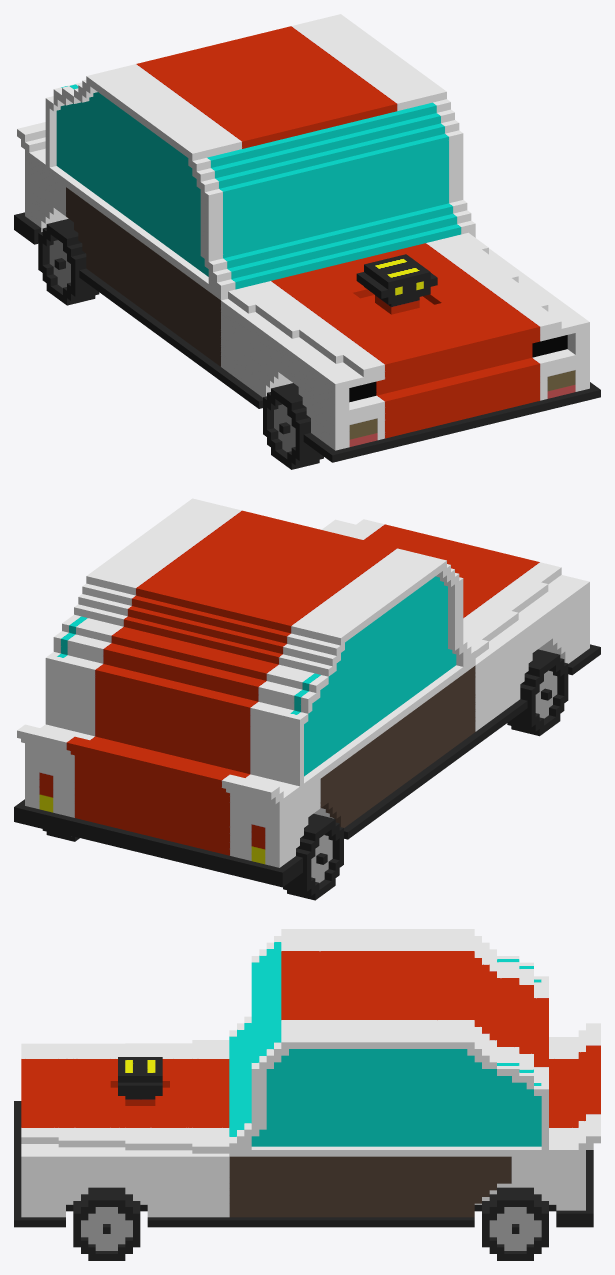
The model's file is Character_11.fbx.
3 views of the same model, one above another, from view 1: azimuth 30°, elevation 25°; view 2: azimuth 150°, elevation 25°; view 3: azimuth 270°, elevation 25° (orthographic). The views are drawn at different scales.
Visible parts, largest first — view 1: Character_11; view 2: Character_11; view 3: Character_11.
Part boxes in pixels (x1,y1,x2,y2): Character_11: (14,14,600,469); Character_11: (14,498,600,900); Character_11: (14,929,600,1260).
Size of the model in its own units: 38 by 32 by 79.
